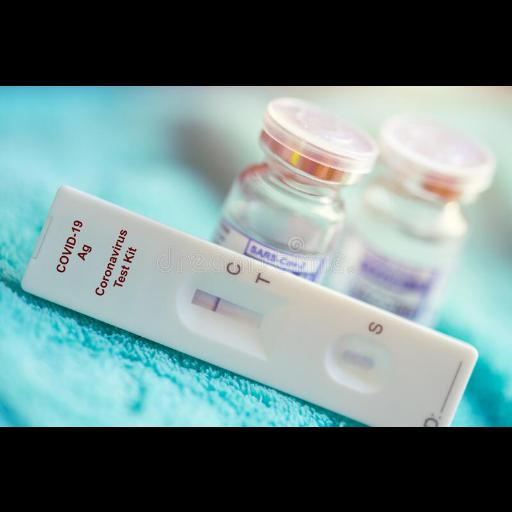Neg: (19, 184, 425, 426)
